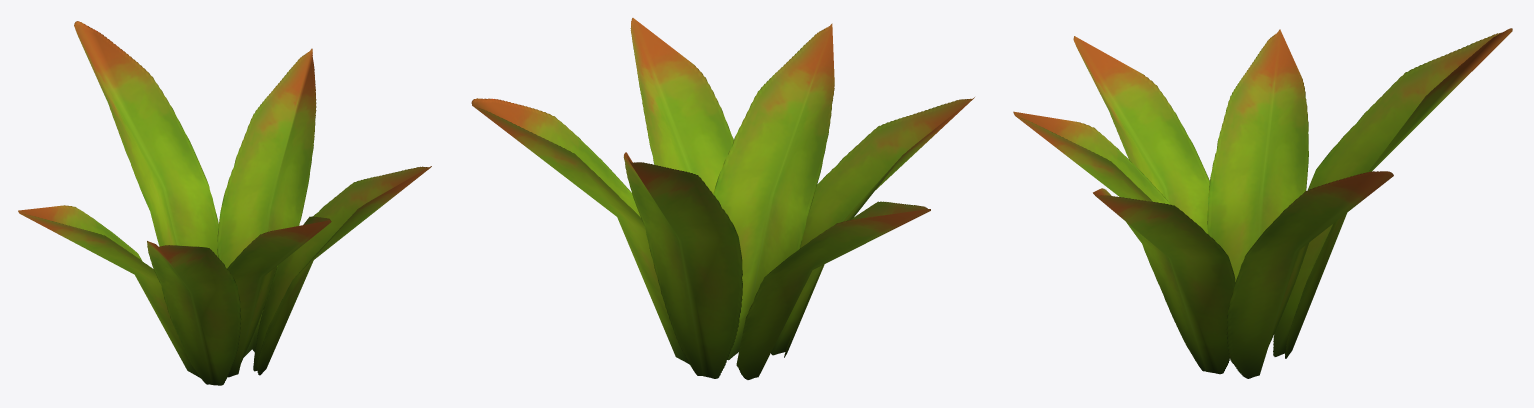
Rendered from Plant_1.gltf.
3 views of the same model, side by side, from view 1: azimuth 30°, elevation 25°; view 2: azimuth 150°, elevation 25°; view 3: azimuth 270°, elevation 25° (orthographic). The views are drawn at different scales.
Parts seen in each view (by area): view 1: Plant_1; view 2: Plant_1; view 3: Plant_1.
Part boxes in pixels (x1=…): Plant_1: x1=18, y1=21, x2=431, y2=385; Plant_1: x1=471, y1=18, x2=974, y2=379; Plant_1: x1=1013, y1=28, x2=1512, y2=378.
Size of the model in its own units: 1.27 by 1.01 by 1.39.
Materials: 1 (1 with a texture image).
